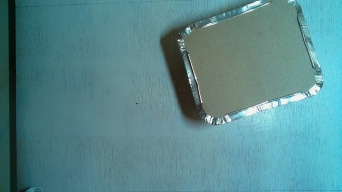f: (172, 1, 326, 132)
